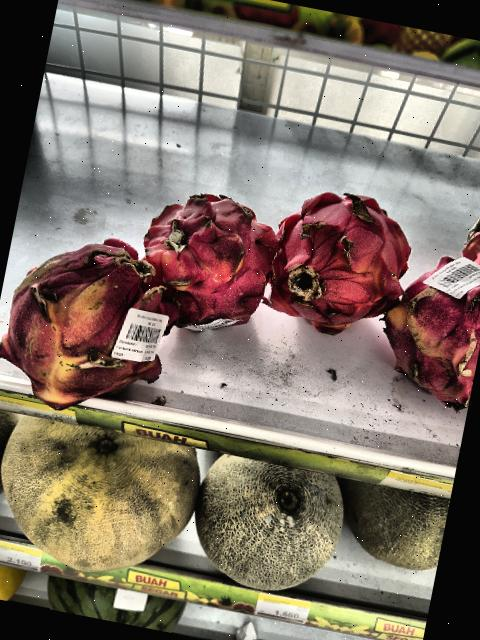buah-naga-belum-matang: (0, 225, 189, 423), (374, 230, 480, 412)
buah-naga-matang: (124, 166, 292, 344), (255, 177, 412, 340)
